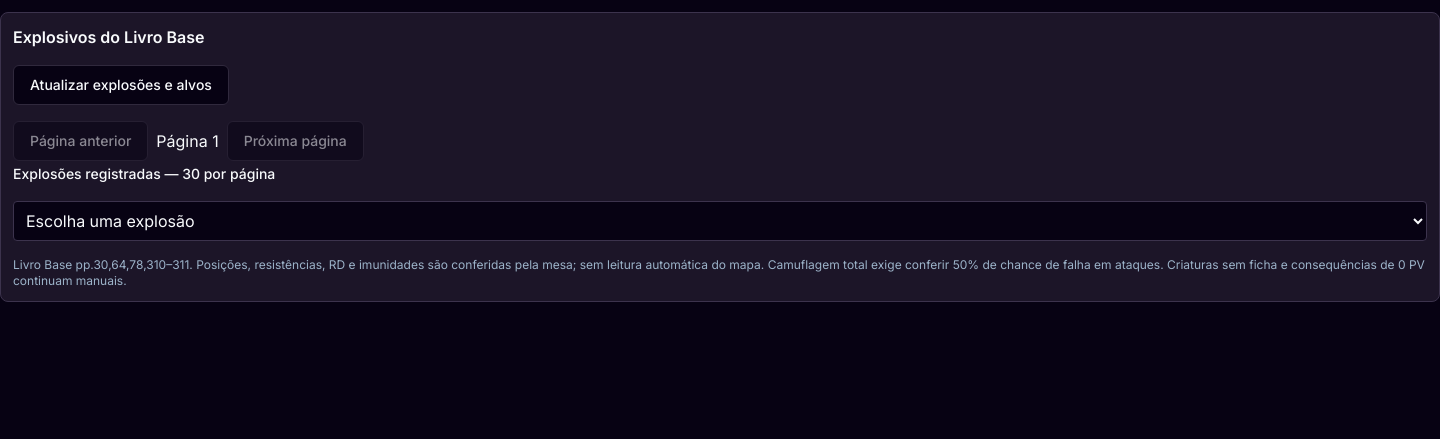
Test case: Explosivos: requisitos antes da confirmação › explica que detonar a mina ainda não aplica PV sem confirmação do mestre
Select "QA · 0 de dano · DT 14" in the dropdown labelled "Explosões registradas — 30 por página" at (720, 221), box [13,201,1427,241]
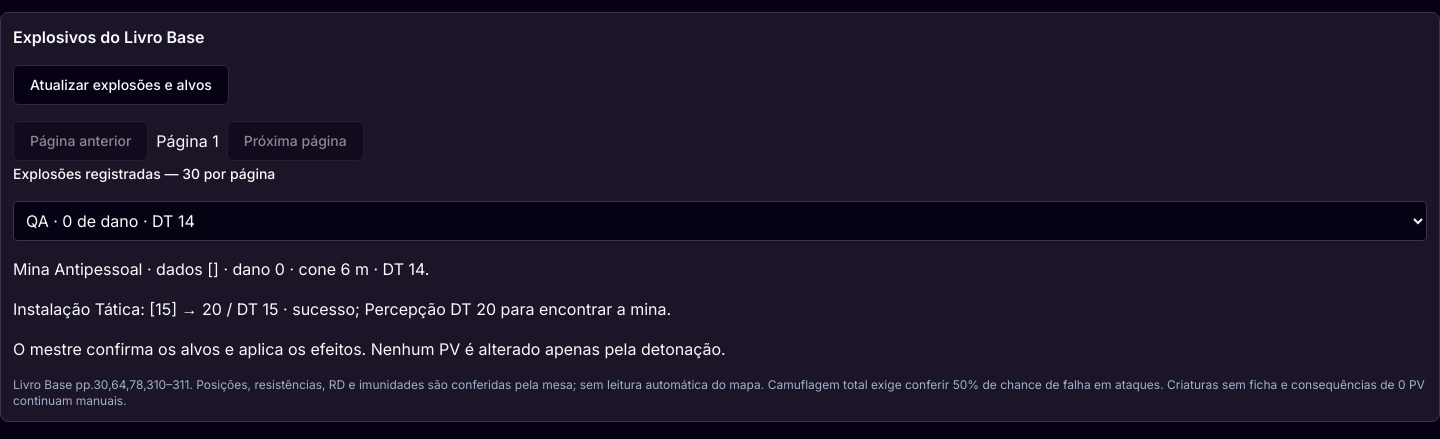
Check: the text "Nenhum PV é alterado apenas pela detonação" is shown, box [13,339,726,359]
